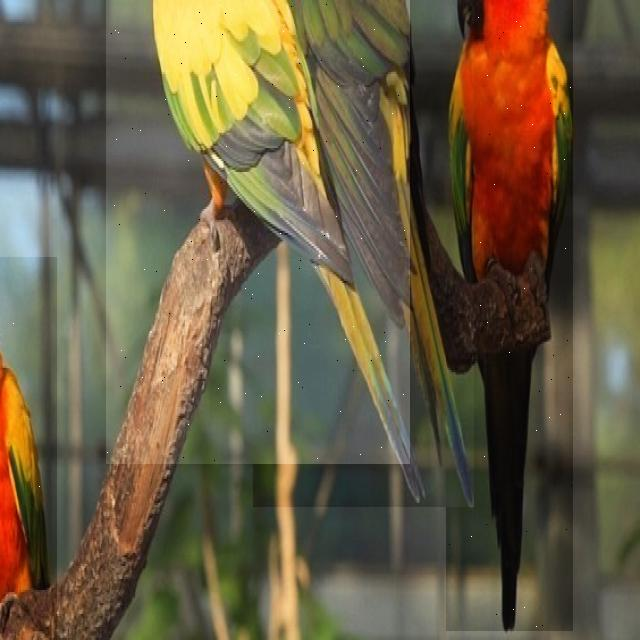bird: (106, 0, 410, 464), (253, 0, 474, 507), (446, 0, 573, 631), (0, 257, 57, 640)
